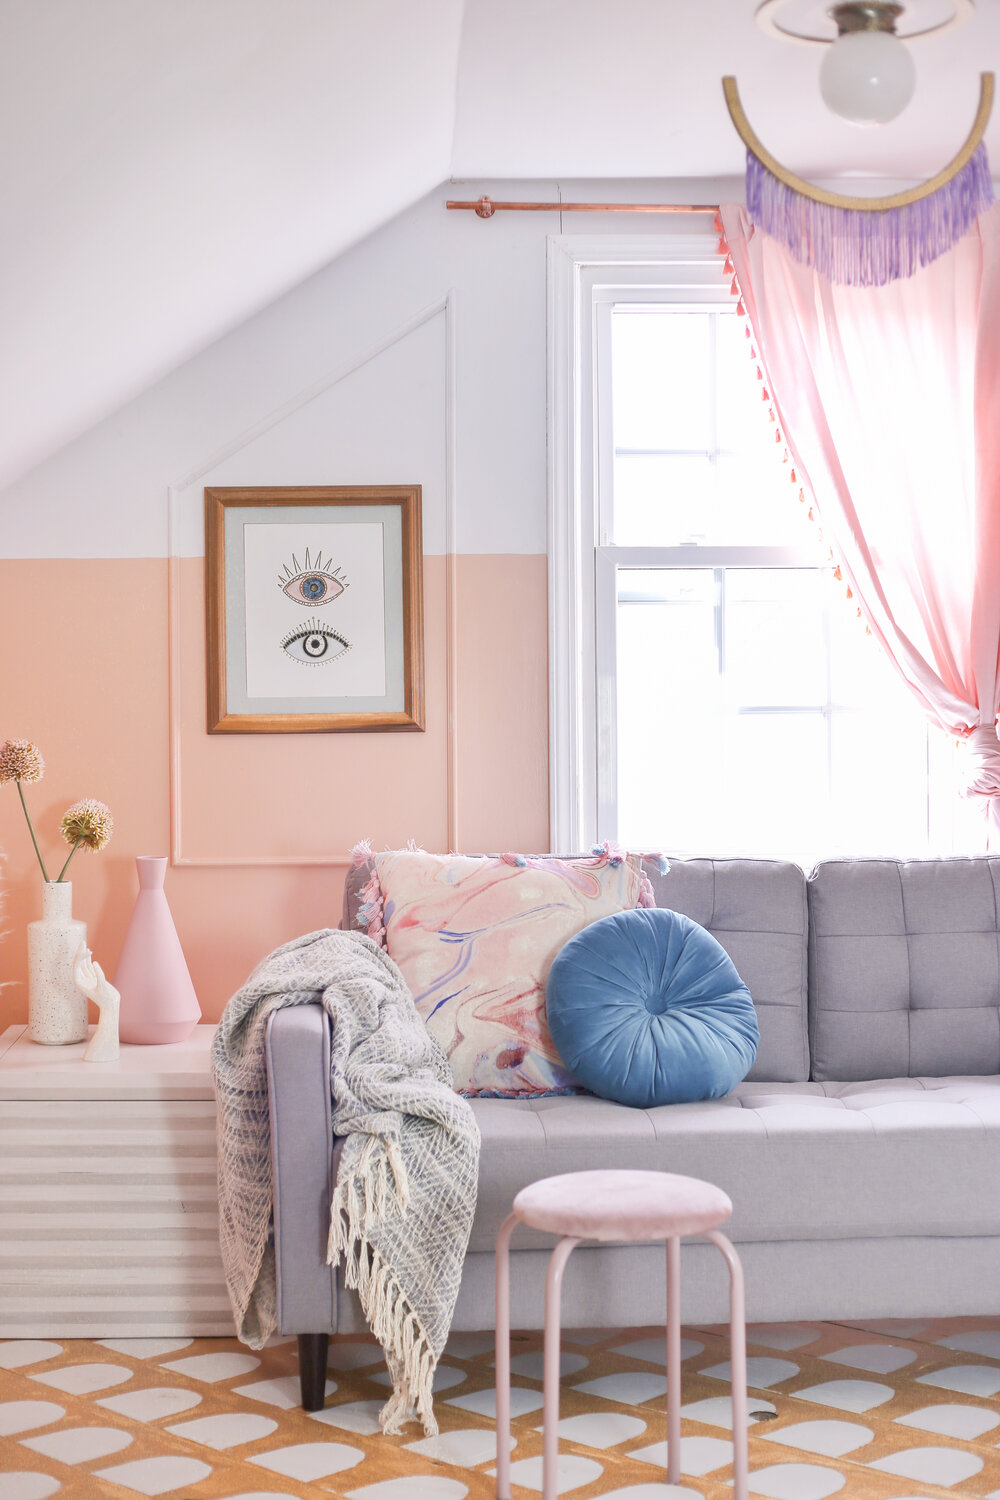biru: (548, 913, 748, 1102)
pink: (500, 1171, 750, 1479), (112, 855, 202, 1049)
putih: (25, 886, 105, 1033)
